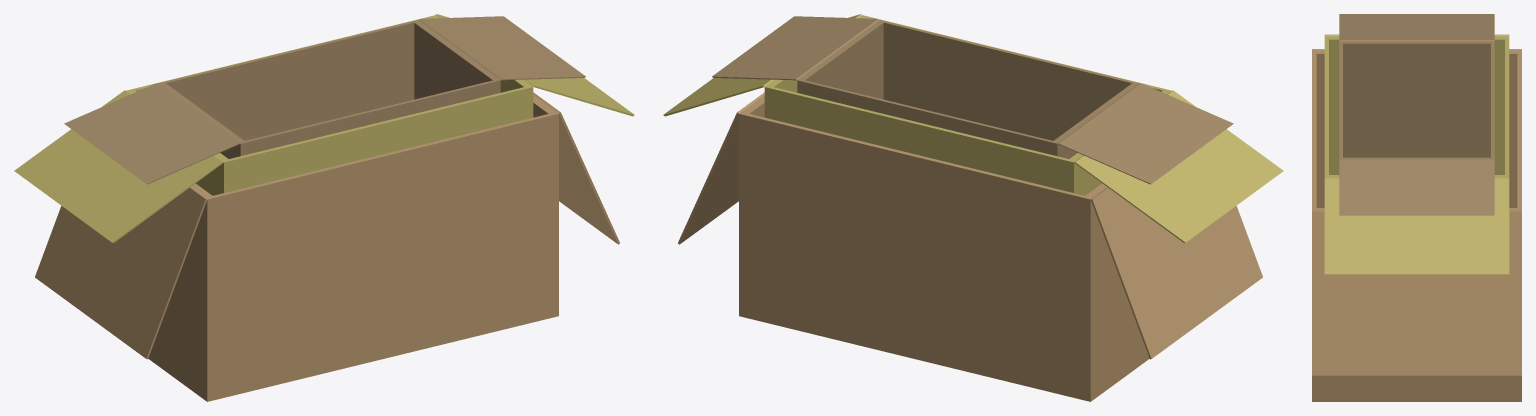
The model's file is CaixasDePapelao.fbx.
3 views of the same model, side by side, from view 1: azimuth 30°, elevation 25°; view 2: azimuth 150°, elevation 25°; view 3: azimuth 270°, elevation 25° (orthographic). The views are drawn at different scales.
Visible parts, largest first — view 1: Cube; view 2: Cube; view 3: Cube.
Boxes of the visible parts, bbox=[...] form: Cube: bbox=[14, 14, 634, 401]; Cube: bbox=[663, 14, 1283, 401]; Cube: bbox=[1312, 14, 1521, 401].
Size of the model in its own units: 541 by 234 by 200.
